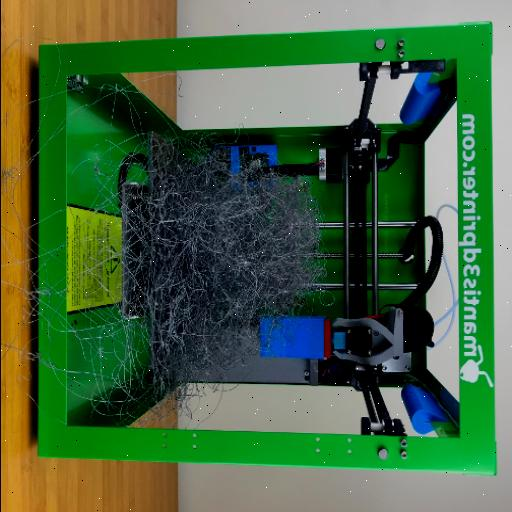spaghetti: (119, 112, 338, 427)
